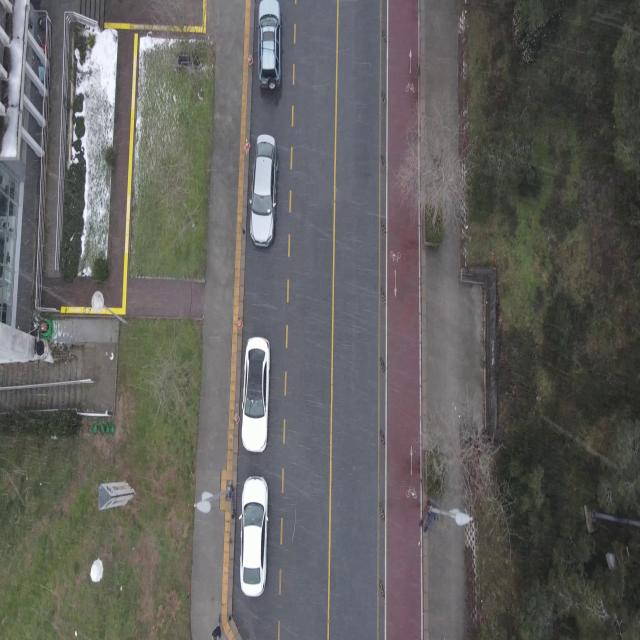p3rson: (211, 616, 221, 640)
